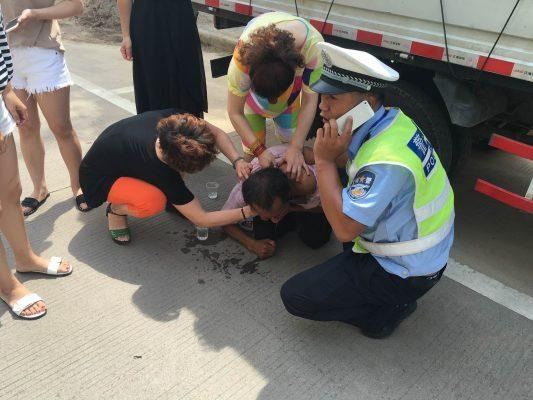falling: (213, 133, 335, 263)
